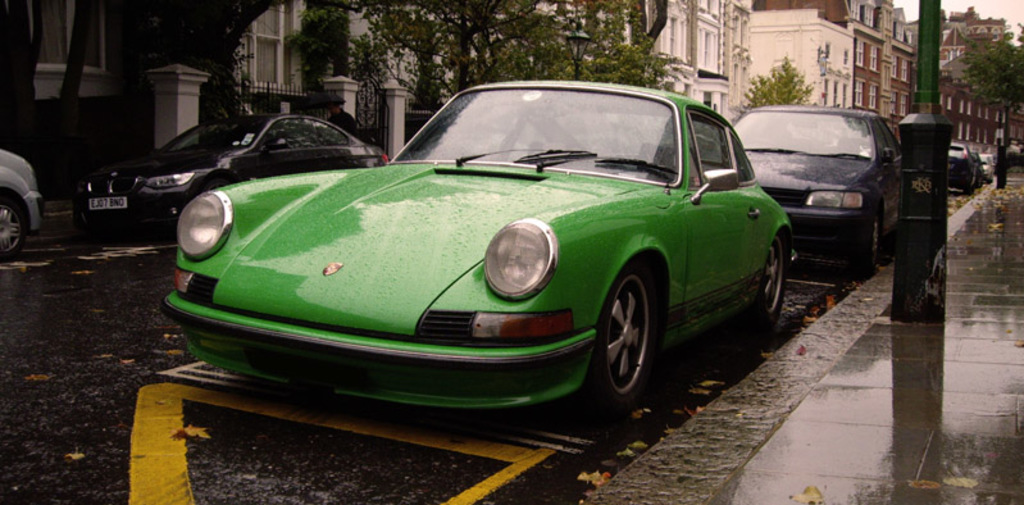mobil: (175, 75, 813, 427)
